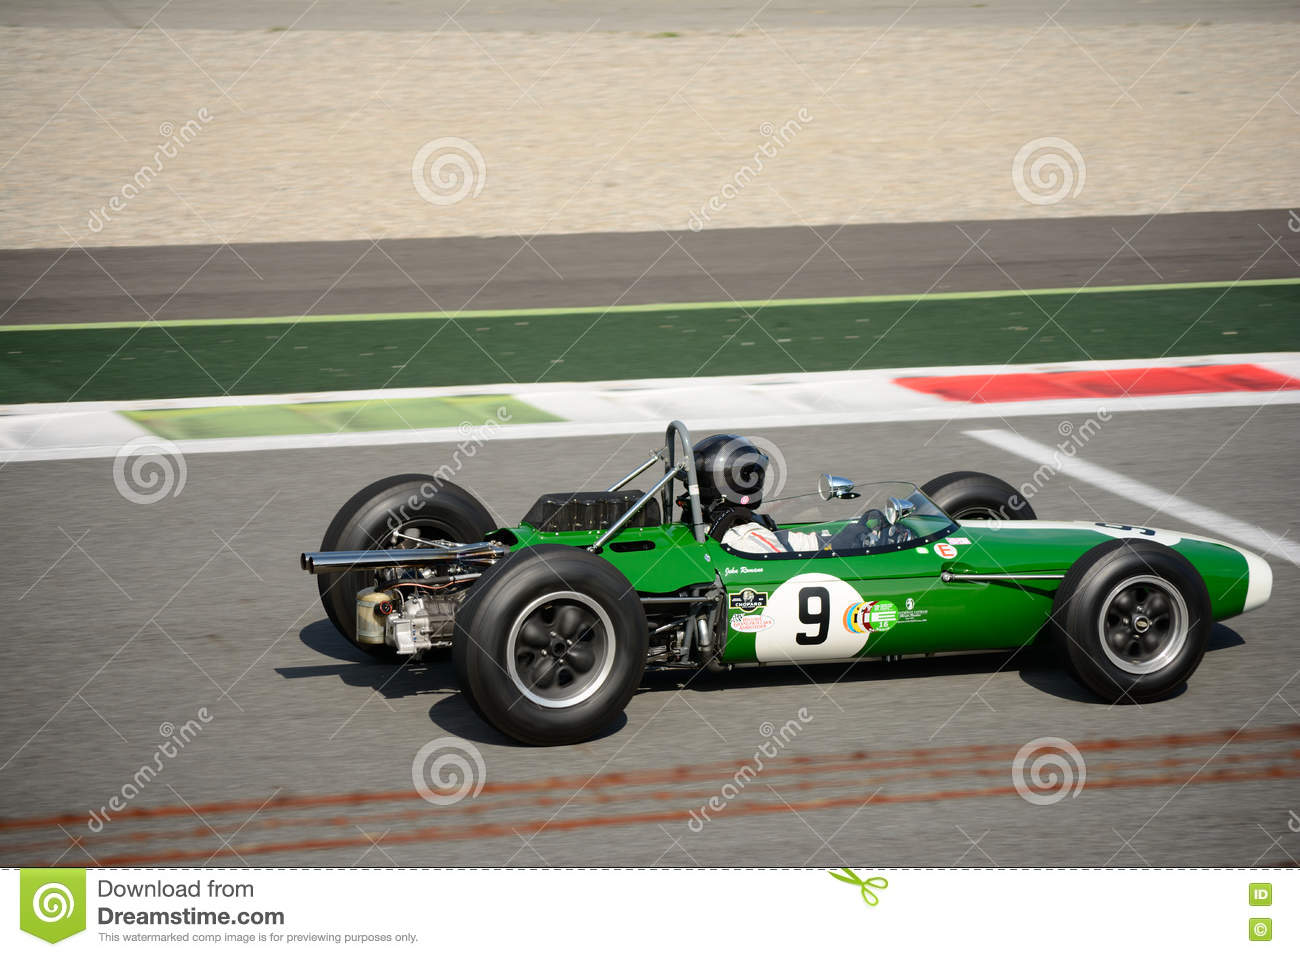f1_car: (284, 397, 1272, 756)
helmet: (673, 426, 782, 523)
